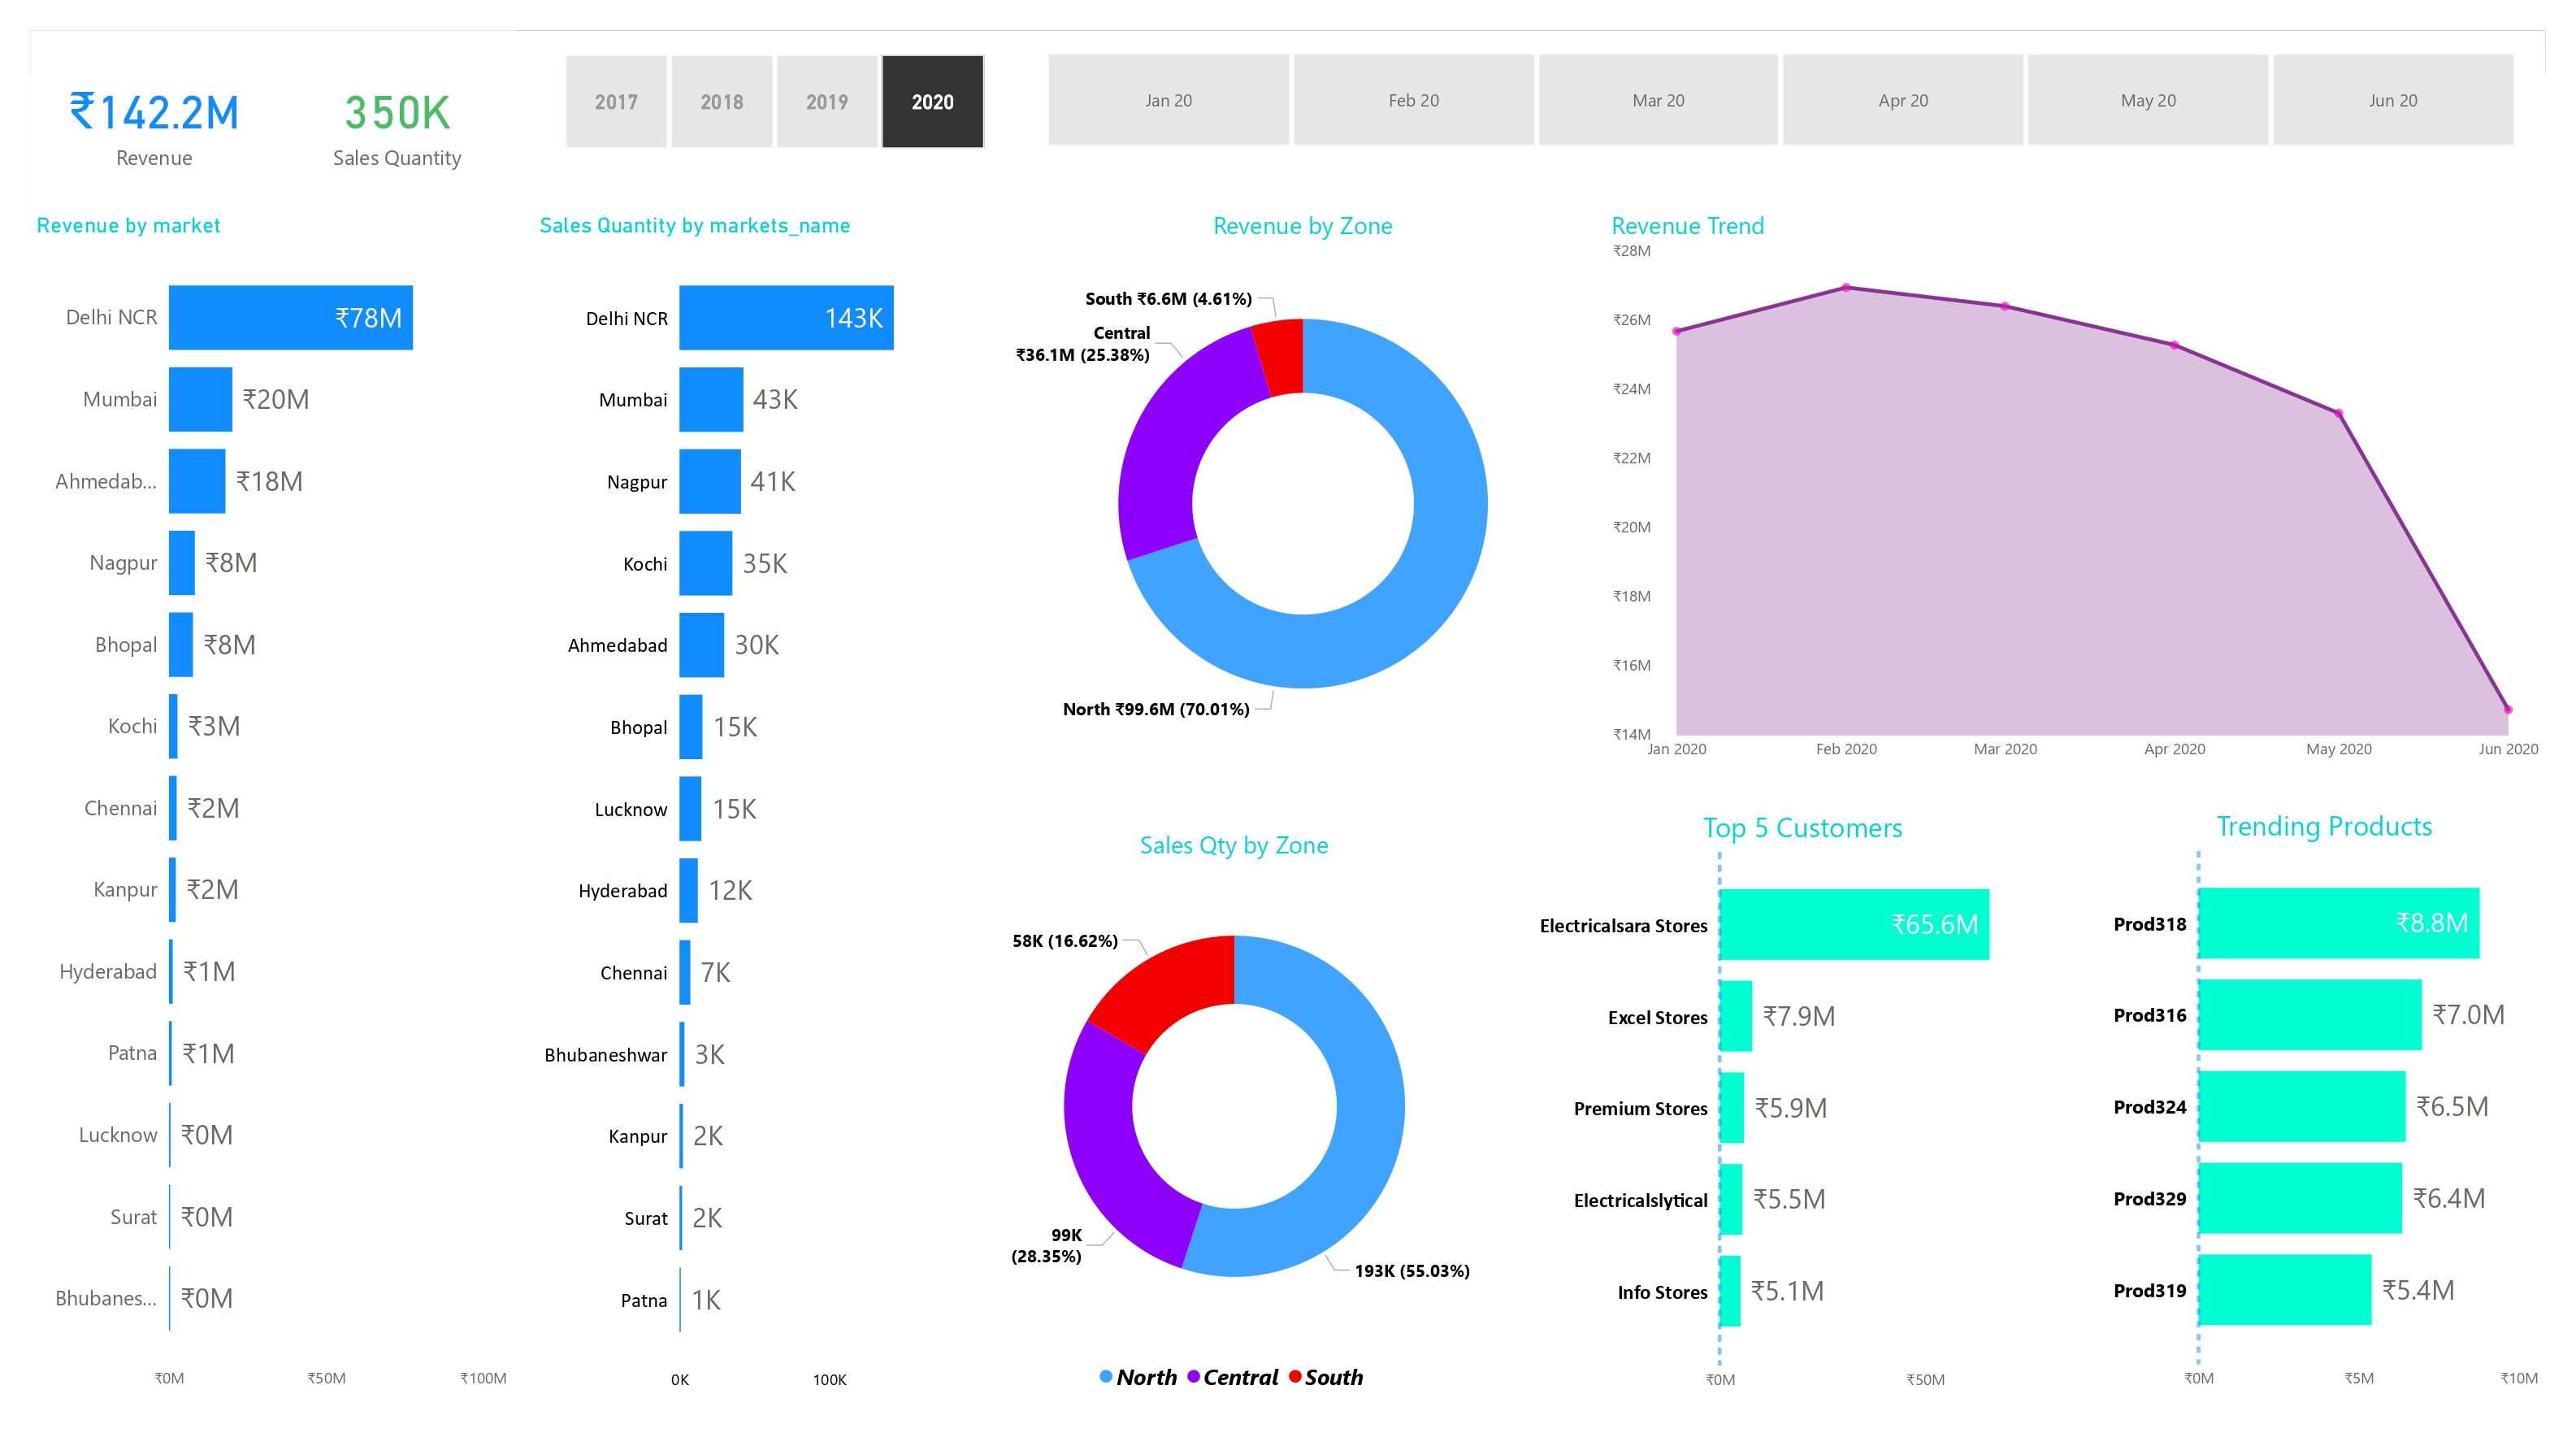

The dashboard page shown, as its layout file describes it:
{"tool":"powerbi","page":{"name":"Key Insights","canvas":[1980,1080],"ordinal":0},"visuals":[{"type":"card","fields":{"Values":["Base Measures.Revenue"]},"box":[0,0,195.2,143.2],"z":0},{"type":"card","fields":{"Values":["Base Measures.Sales Quantity"]},"box":[195,0,188.3,143.3],"z":1000},{"type":"barChart","title":"Revenue by market","fields":{"Category":["sales markets.markets_name"],"Y":["Base Measures.Revenue"]},"box":[0,142.6,383.2,936.8],"z":2000},{"type":"barChart","fields":{"Y":["Base Measures.Sales Quantity"],"Category":["sales markets.markets_name"]},"box":[395.7,142.9,348.6,937.1],"z":3000},{"type":"slicer","fields":{"Values":["sales date.year"]},"box":[395,11.7,380,88.3],"z":4000},{"type":"slicer","fields":{"Values":["sales date.cy_date"]},"box":[775,10.6,1205,87.3],"z":5000},{"type":"donutChart","title":"Revenue by Zone","fields":{"Category":["sales markets.zone"],"Y":["Base Measures.Revenue"]},"box":[744,140,516,446],"z":6000},{"type":"barChart","title":"Top 5 Customers","fields":{"Category":["sales customers.custmer_name"],"Y":["Base Measures.Revenue"]},"box":[1182,612,428,468],"z":7000},{"type":"lineChart","title":"Revenue Trend","fields":{"Y":["Base Measures.Revenue"],"Category":["sales date.cy_date"]},"box":[1240,140,740,444],"z":8000},{"type":"barChart","title":"Trending Products","fields":{"Category":["sales transactions.product_code"],"Y":["Base Measures.Revenue"]},"box":[1633,611,347,468.4],"z":9000},{"type":"donutChart","title":"Sales Qty by Zone","fields":{"Category":["sales markets.zone"],"Y":["Base Measures.Sales Quantity"]},"box":[714,628,468,452],"z":10000}]}

Visuals, with their boxes in screenshot pixels (x1, y1, x2, y2):
card - Base Measures.Revenue: x1=31, y1=31, x2=279, y2=212
card - Base Measures.Sales Quantity: x1=278, y1=31, x2=518, y2=212
"Revenue by market" barChart: x1=31, y1=211, x2=518, y2=1402
barChart - Base Measures.Sales Quantity x sales markets.markets_name: x1=533, y1=212, x2=976, y2=1402
slicer - sales date.year: x1=532, y1=46, x2=1015, y2=158
slicer - sales date.cy_date: x1=1015, y1=44, x2=2545, y2=155
"Revenue by Zone" donutChart: x1=975, y1=208, x2=1631, y2=775
"Top 5 Customers" barChart: x1=1532, y1=808, x2=2075, y2=1402
"Revenue Trend" lineChart: x1=1606, y1=208, x2=2545, y2=772
"Trending Products" barChart: x1=2105, y1=806, x2=2545, y2=1402
"Sales Qty by Zone" donutChart: x1=938, y1=828, x2=1532, y2=1402
